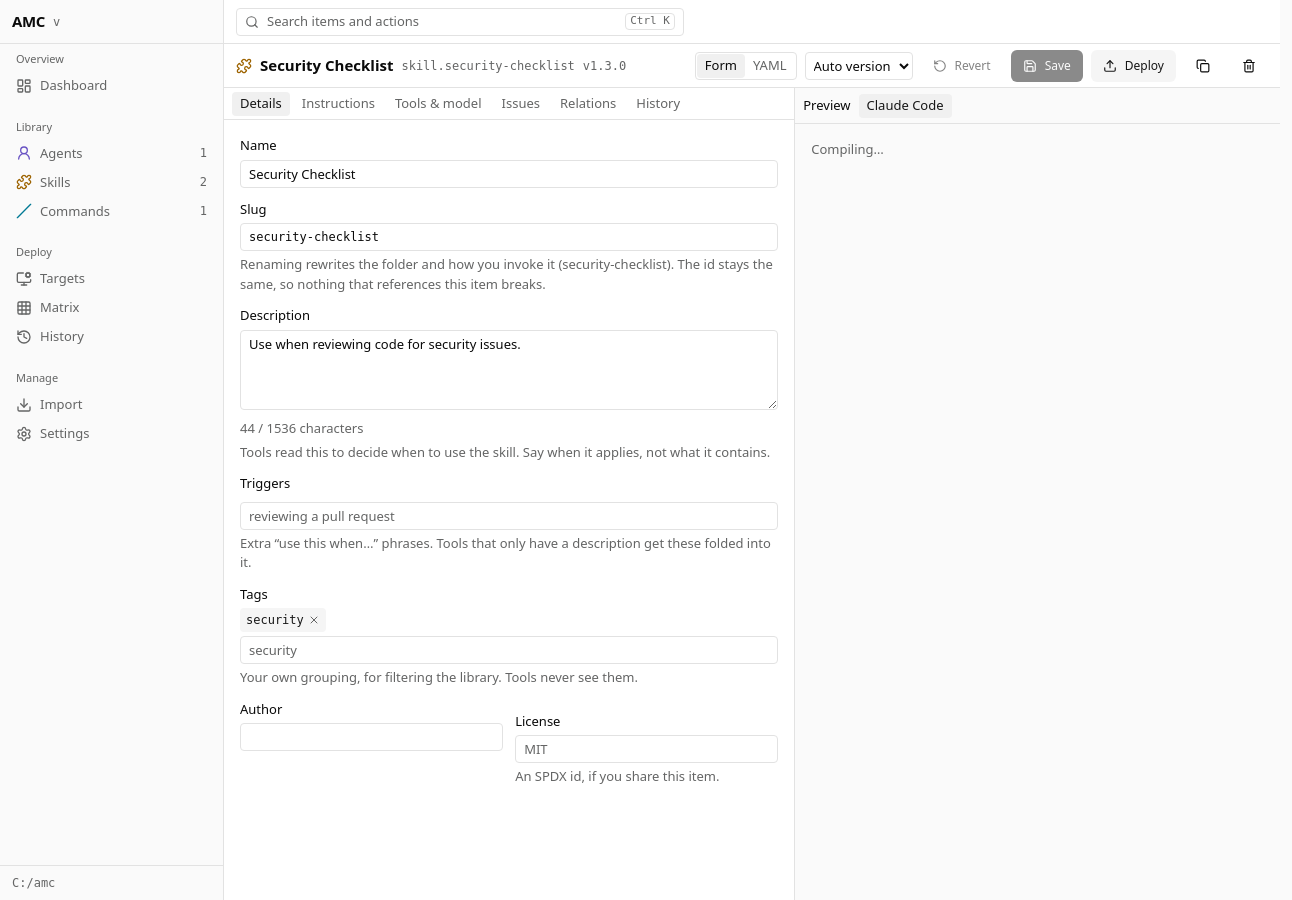
Test: item editor: details and saving (T1.6.4) › marks edits unsaved and writes them through library.update
Replace the text in the field showing "Security Checklist" with "Security Review" at (509, 174), box [240, 160, 778, 188]
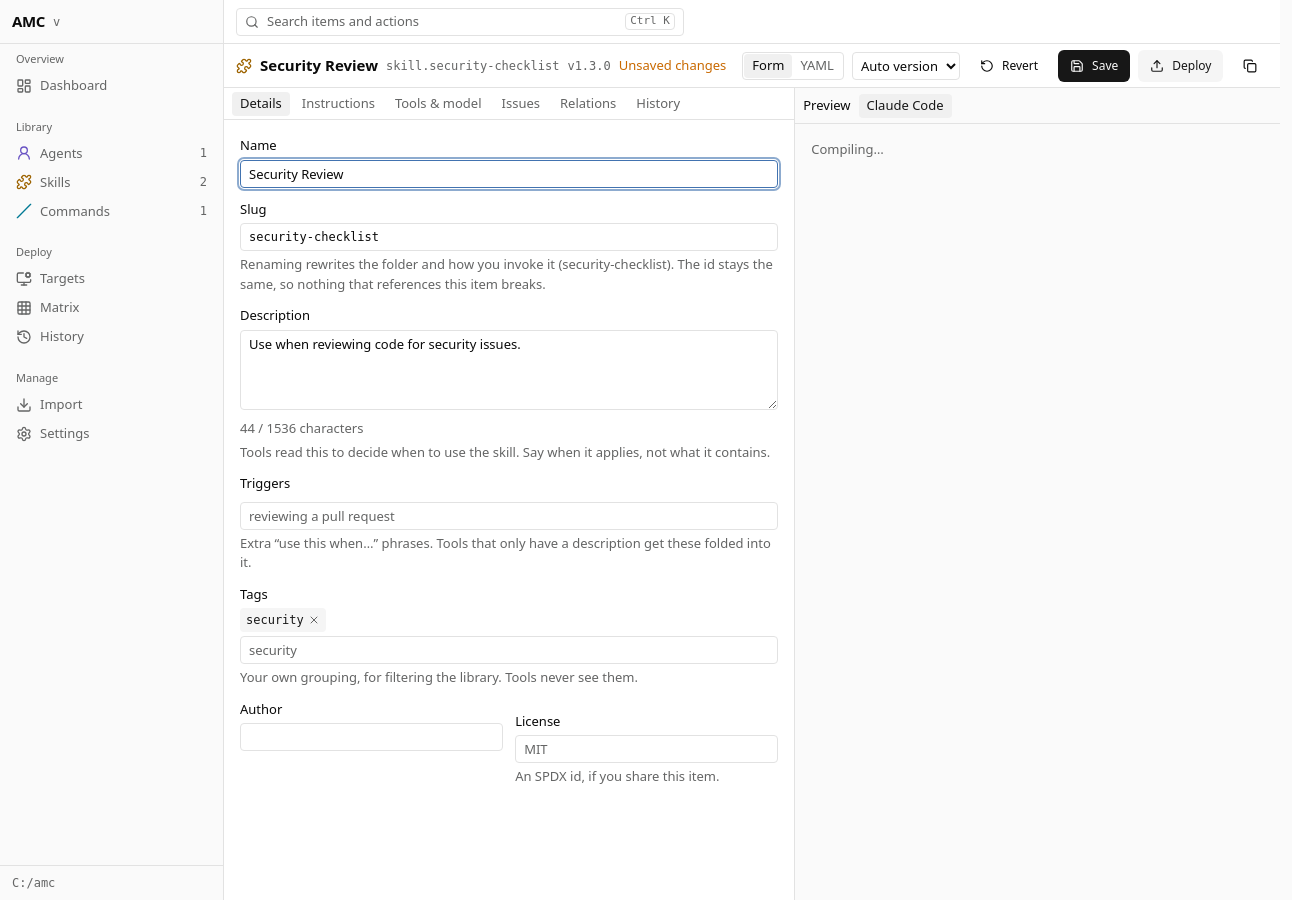
Expected: the text "Unsaved changes" is shown, [619, 56, 726, 75]
Click the button "Save" at (1094, 66), box [1058, 50, 1130, 82]
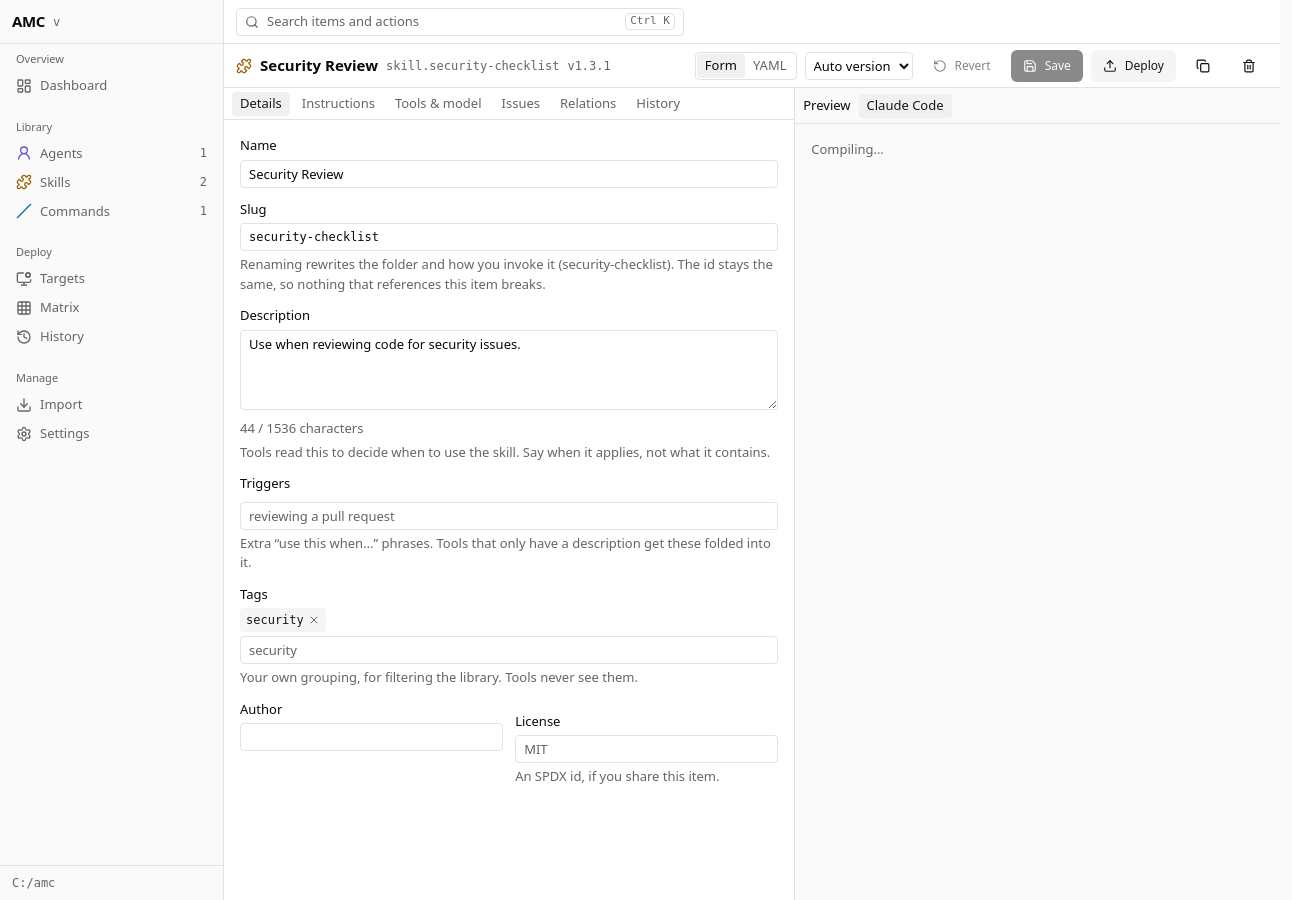
Expected: the heading "Security Review" is shown, [260, 54, 378, 77]
Expected: the text "Unsaved changes" is gone
